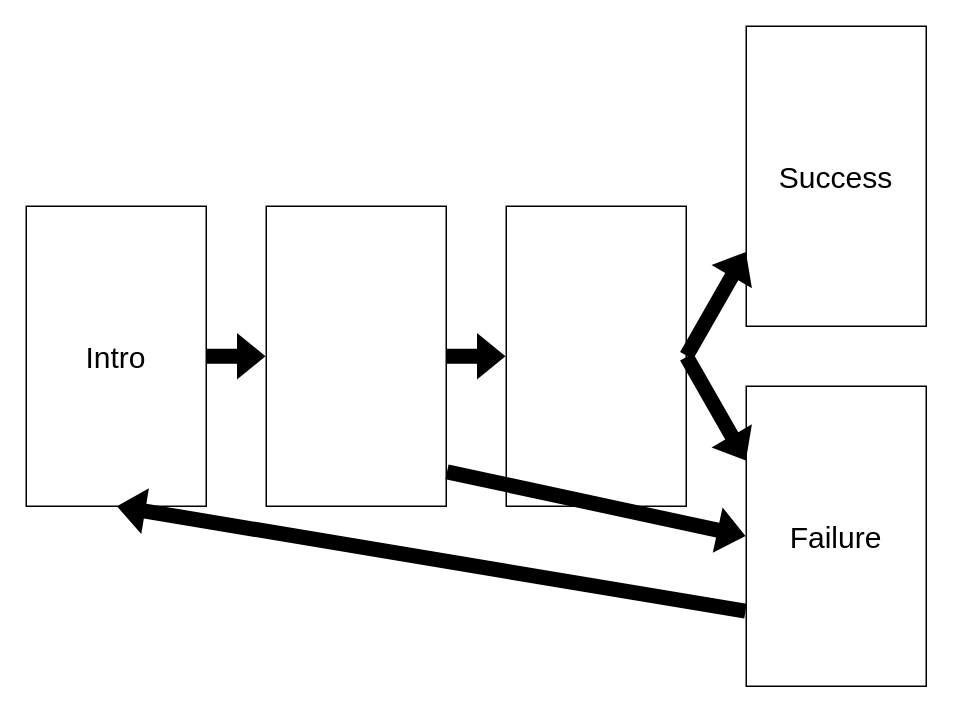
The diagram is 953 pixels wide and 713 high, and some of its shapes have lost their labels. The centre of each missing label's shape, as x and y in pixels:
Setup: the point at 355,355
Write: the point at 595,355
